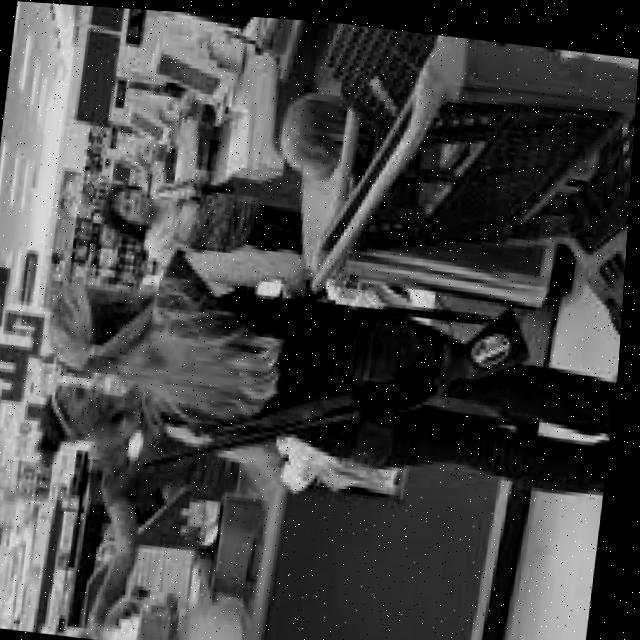firearm: (149, 265, 541, 506)
